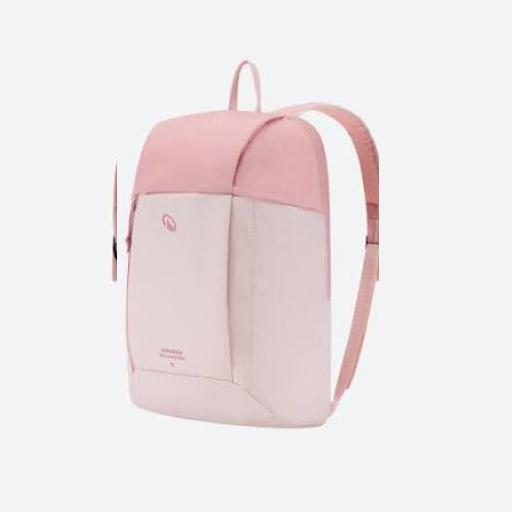tas ransel: (118, 59, 380, 434)
